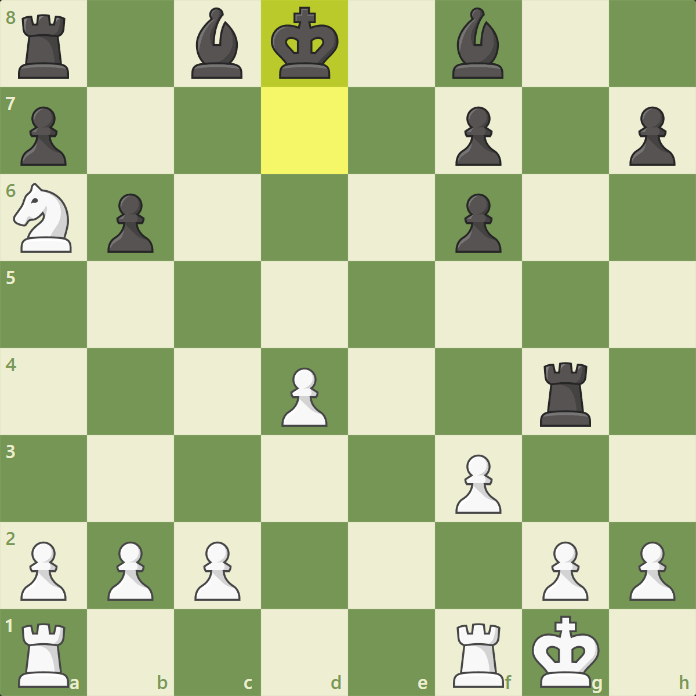K: (531, 613, 603, 691)
N: (11, 181, 74, 256)
P: (18, 539, 68, 604), (105, 539, 155, 604), (192, 539, 242, 604), (279, 365, 329, 430), (452, 452, 502, 517), (539, 538, 589, 603), (627, 538, 677, 603)
R: (16, 621, 72, 691), (450, 621, 506, 691)
b: (189, 5, 245, 82), (450, 6, 506, 81)
k: (269, 4, 341, 82)
p: (104, 192, 157, 255), (16, 106, 69, 169), (453, 193, 506, 256), (450, 105, 503, 168), (626, 106, 679, 169)
r: (13, 11, 72, 82), (537, 360, 595, 430)
